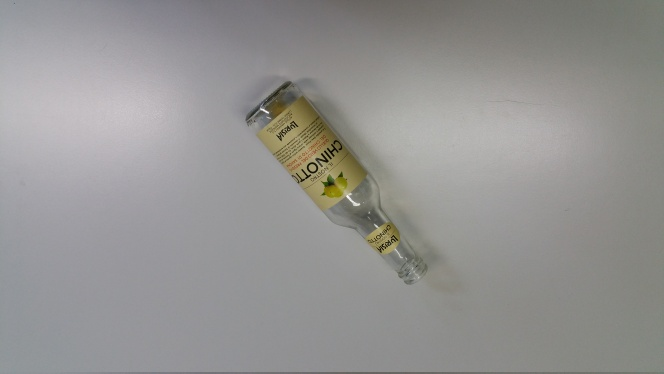bottle: (242, 79, 431, 287)
